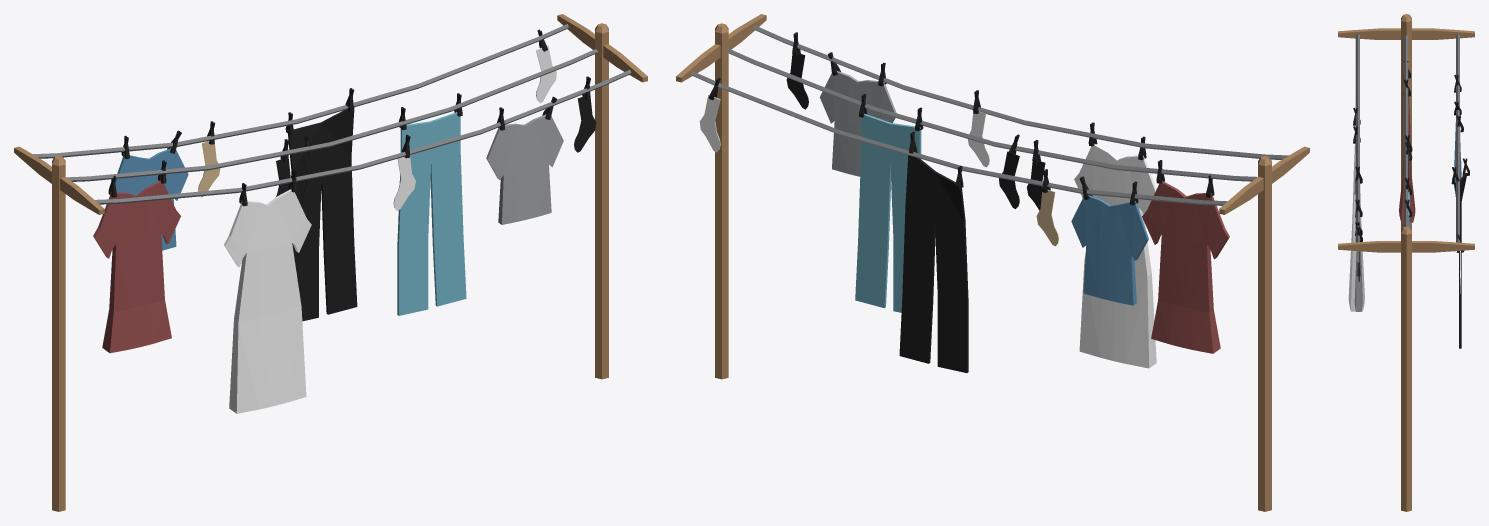
The model's file is SM_clothes_drying_rack_04.fbx.
3 renders of one model, left to right at view 1: azimuth 30°, elevation 25°; view 2: azimuth 150°, elevation 25°; view 3: azimuth 270°, elevation 25°, orthographic. The views are drawn at different scales.
Visible parts, largest first — view 1: Cylinder033; view 2: Cylinder033; view 3: Cylinder033.
Boxes of the visible parts, left/top/right/bottom form: Cylinder033: left=14, top=14, right=647, bottom=511; Cylinder033: left=676, top=14, right=1309, bottom=511; Cylinder033: left=1338, top=14, right=1474, bottom=511.
Bounding box in the file's own units: 157 × 94.78 × 41.76.
